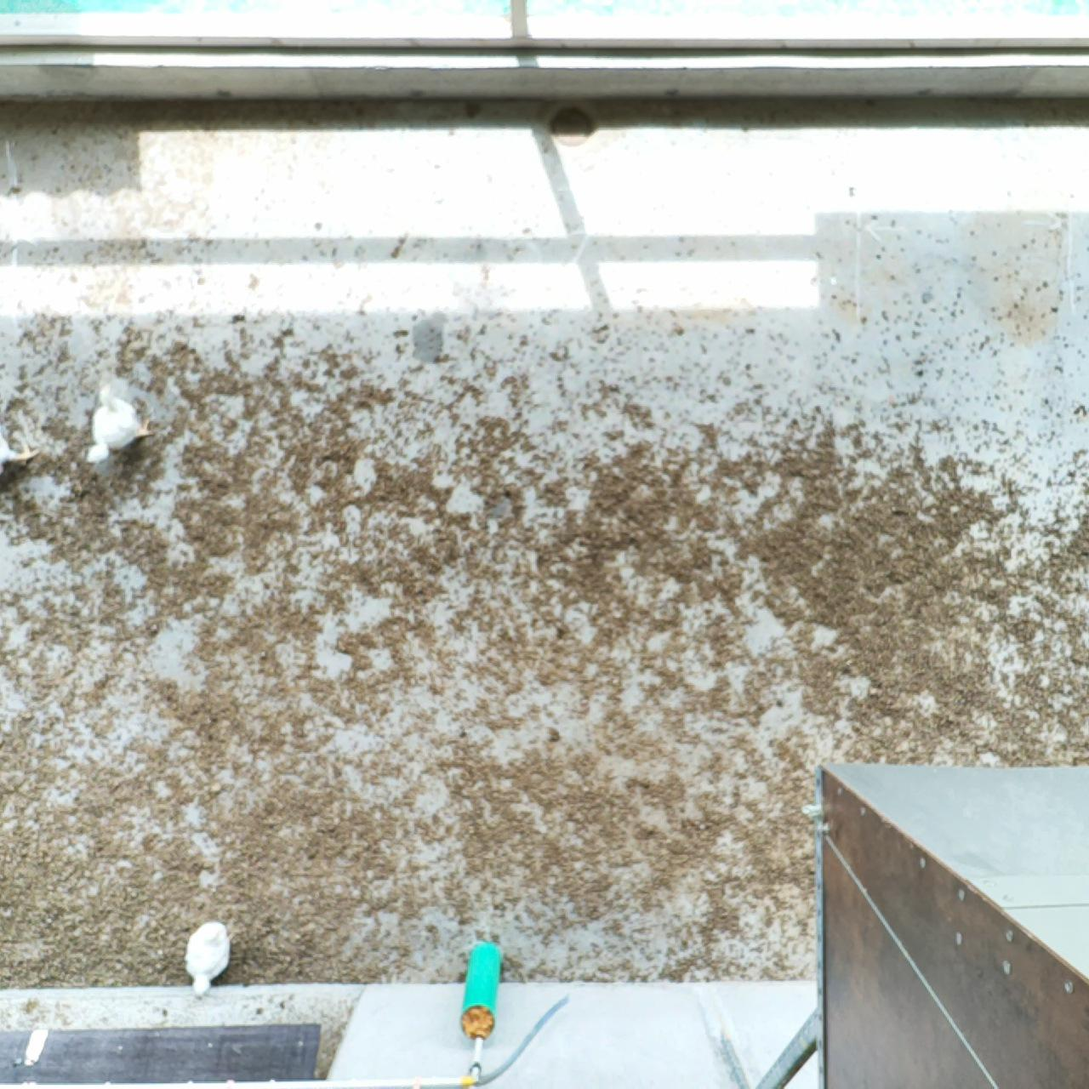chicken: (80, 379, 157, 467), (181, 918, 235, 1002)
